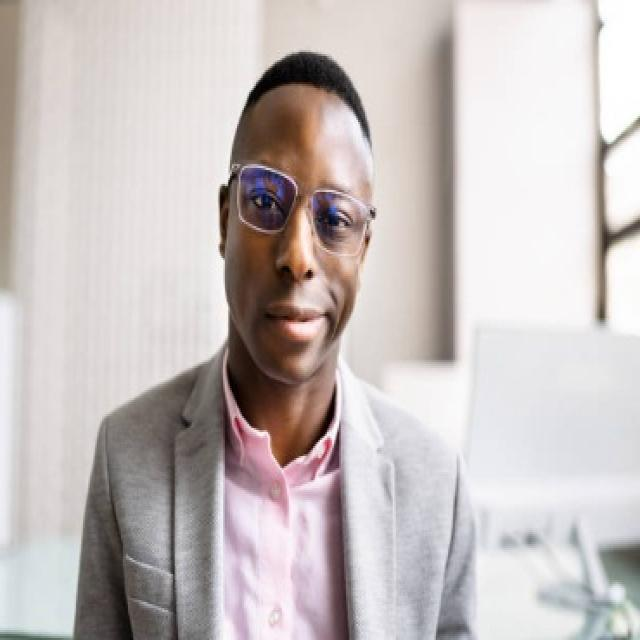adult: (65, 47, 491, 640)
